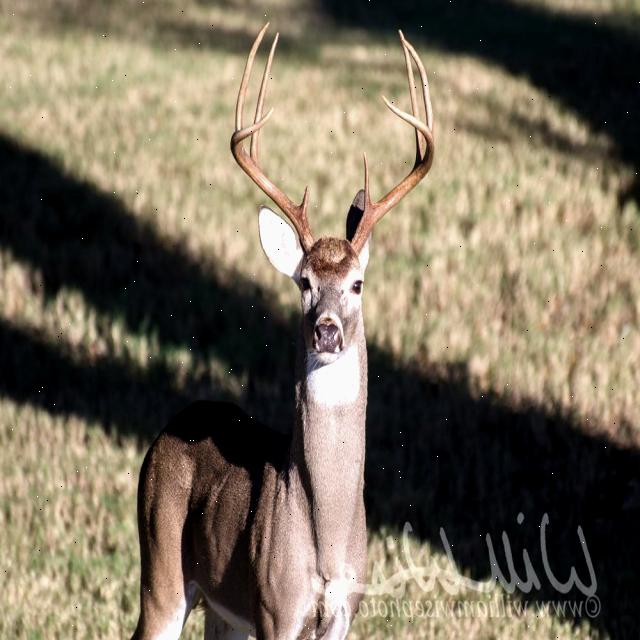deer: (206, 10, 446, 397)
